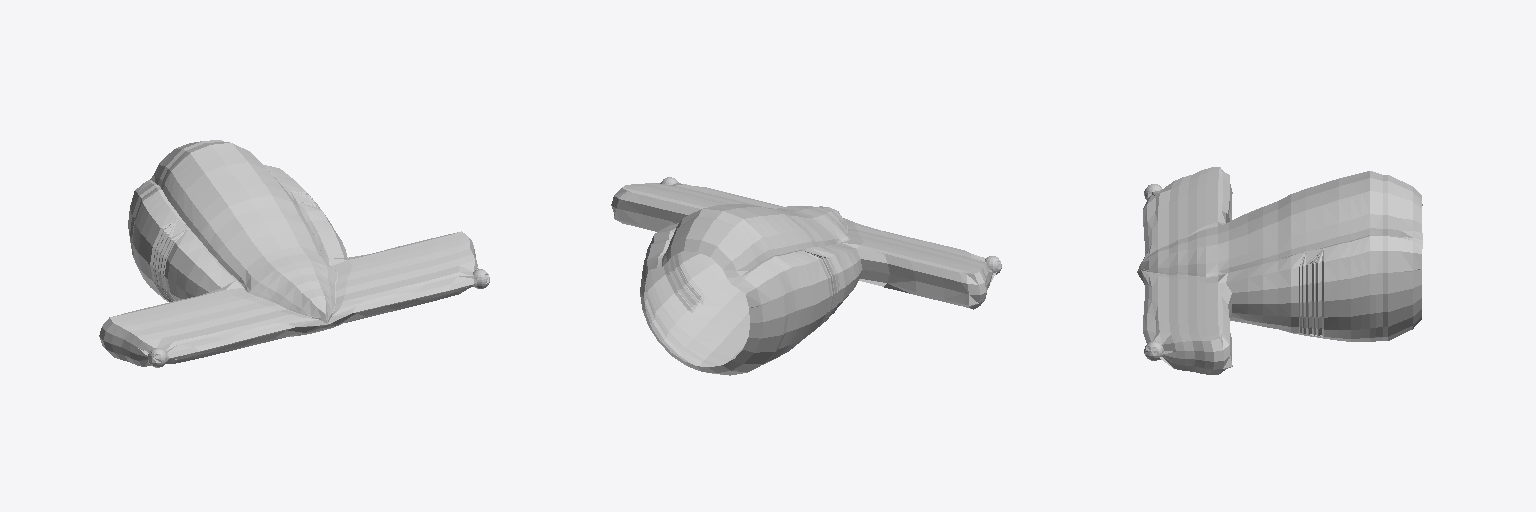
Rendered from hammerhead_shark.obj.
3 renders of one model, left to right at view 1: azimuth 30°, elevation 25°; view 2: azimuth 150°, elevation 25°; view 3: azimuth 270°, elevation 25°, orthographic.
Visible parts, largest first — view 1: pCube3; view 2: pCube3; view 3: pCube3.
Boxes of the visible parts, <box> form: pCube3: <box>99,140,489,367</box>; pCube3: <box>611,177,1001,375</box>; pCube3: <box>1137,167,1422,374</box>.
Size of the model in its own units: 28.89 by 11.63 by 19.27.